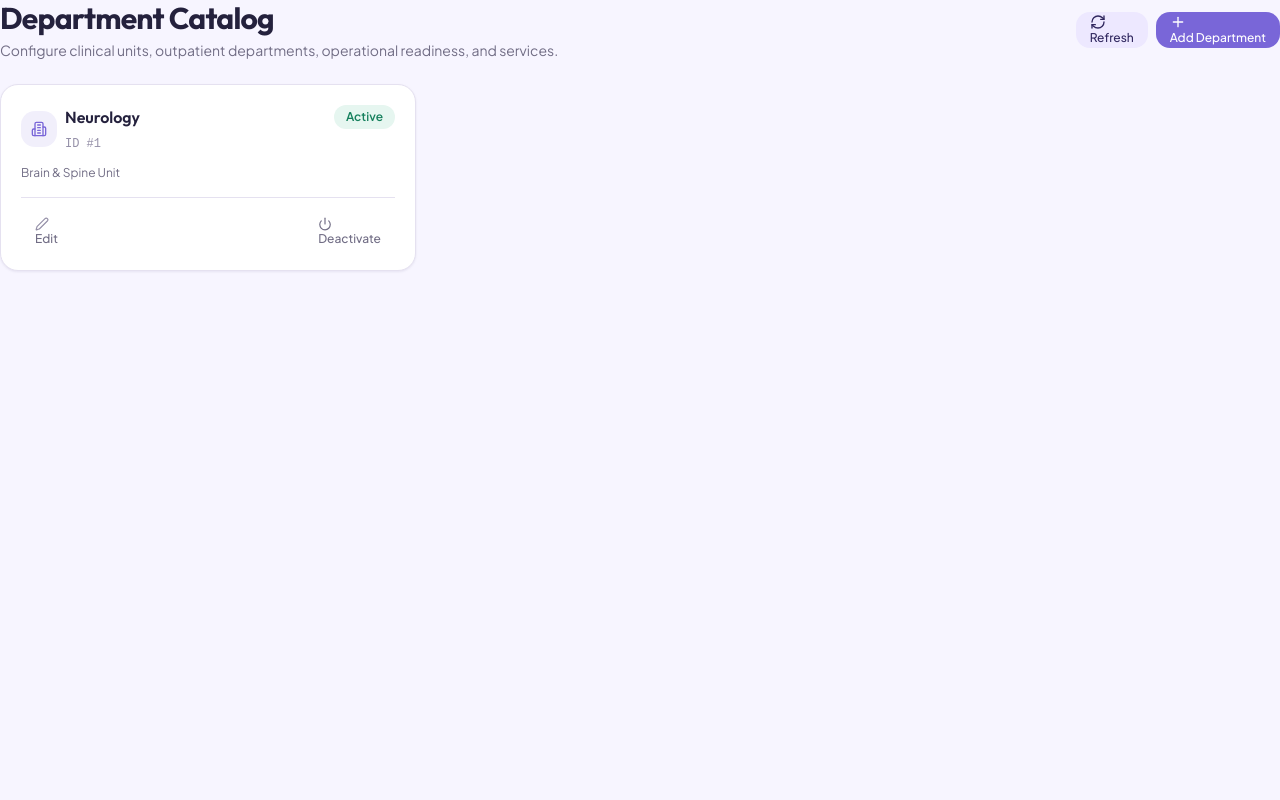
Test: Phase 3: Admin Dashboard & Operational Console Tests › renders department catalog and manages department active status
Expected: the heading "Department Catalog" is shown, left=0, top=0, right=274, bottom=37
Expected: the heading "Neurology" is shown, left=65, top=105, right=140, bottom=129
Click the button "Deactivate" at (350, 232), box left=304, top=214, right=395, bottom=250
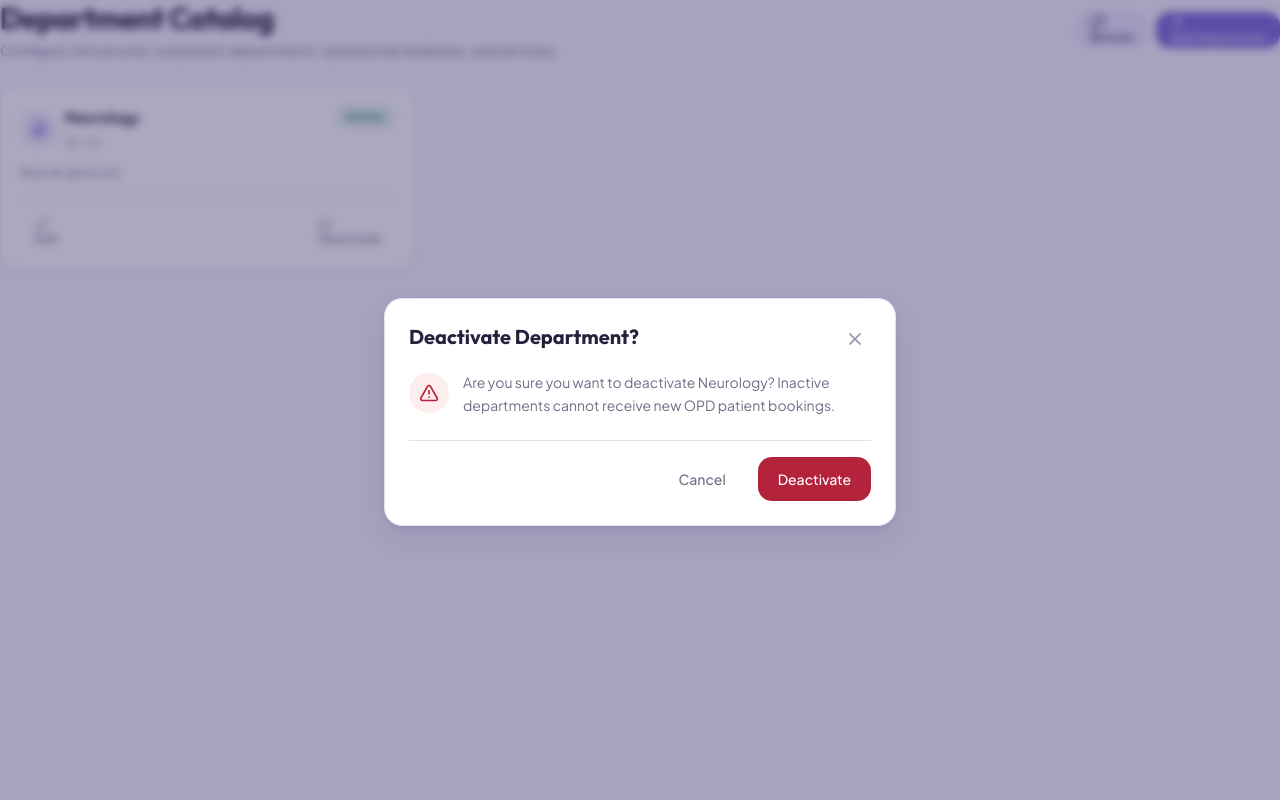
Expected: the heading "Deactivate Department?" is shown, left=409, top=323, right=639, bottom=351
